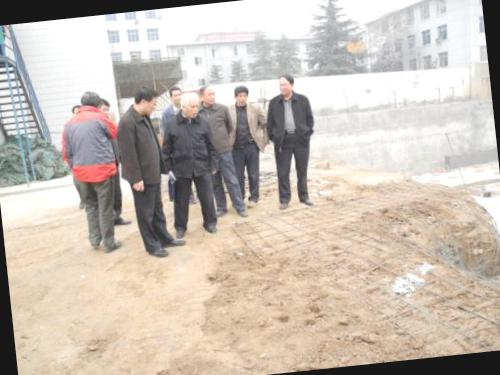no_helmet: (176, 86, 211, 123), (128, 83, 162, 121), (196, 80, 222, 110), (274, 68, 299, 99), (79, 87, 101, 121), (230, 82, 254, 110), (96, 96, 115, 123), (166, 81, 186, 106)
